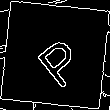P_NW: (25, 23, 85, 87)
